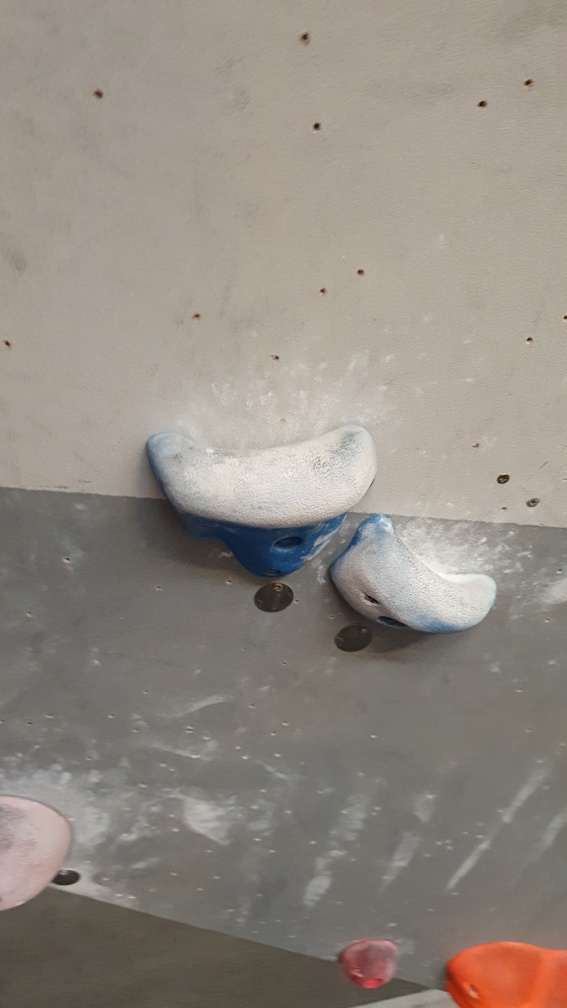Hand Start: (336, 620, 377, 657), (253, 580, 296, 614), (52, 869, 83, 887)
Jug: (142, 424, 383, 580), (330, 516, 499, 634)
